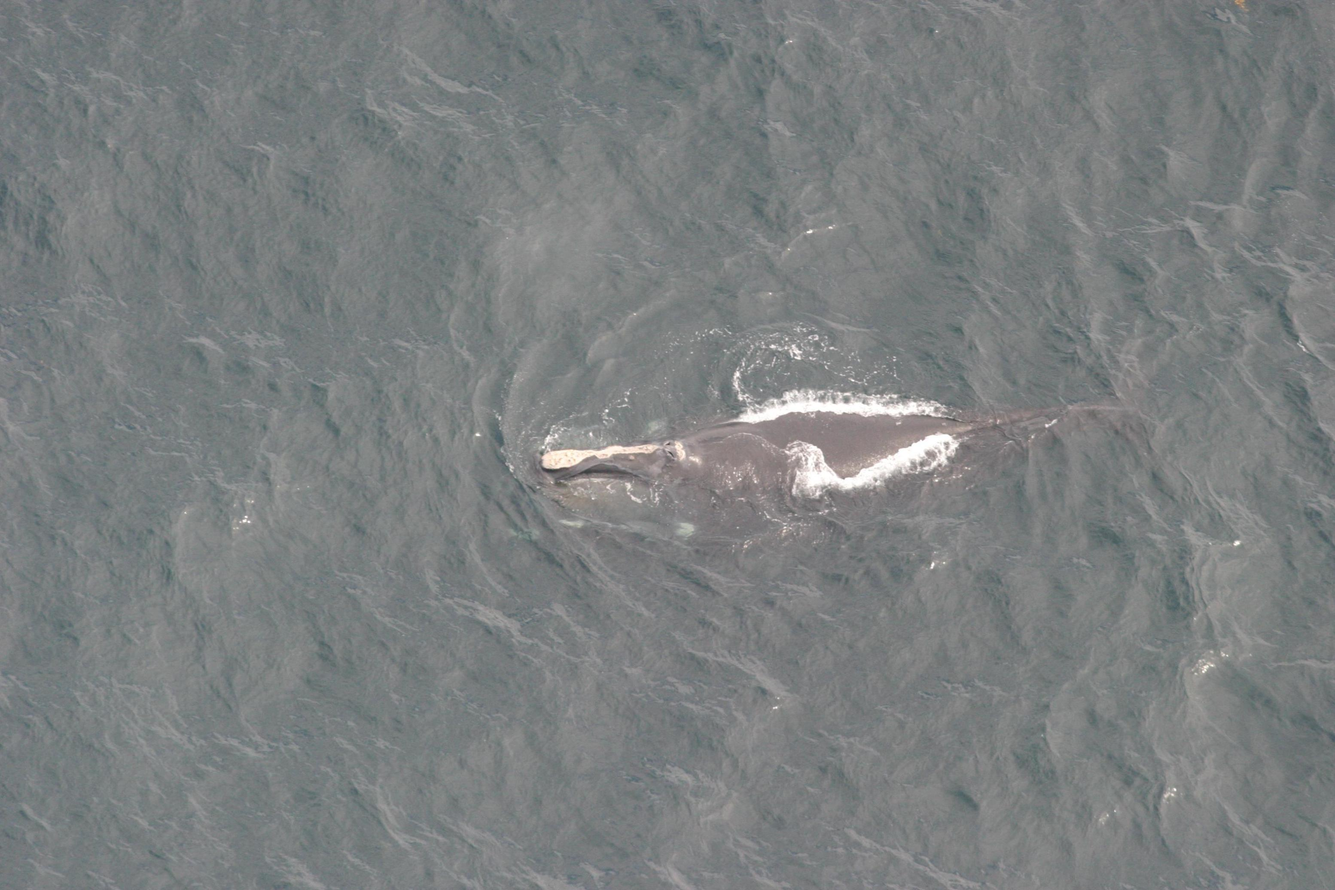whale: (533, 384, 1169, 555)
